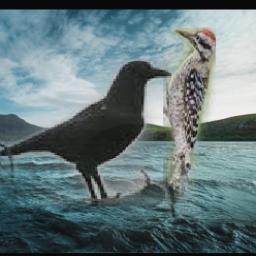Crow: (0, 60, 171, 207)
Woodpecker: (164, 28, 217, 218)
